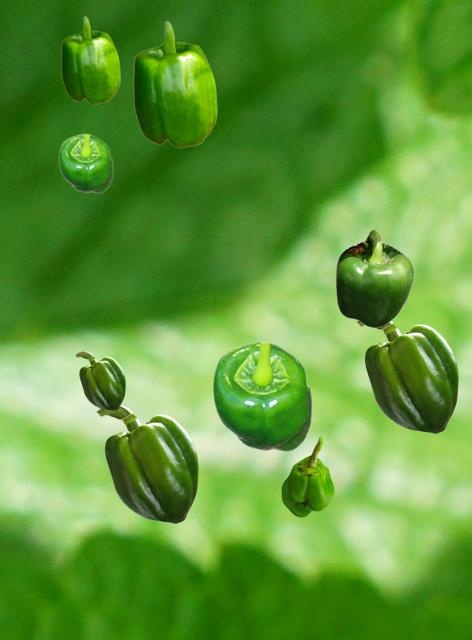bell_pepper: (96, 405, 197, 522), (356, 321, 457, 432), (211, 340, 312, 451), (133, 21, 216, 147), (335, 229, 413, 327), (61, 16, 119, 103), (281, 435, 333, 516), (58, 133, 112, 192), (75, 351, 124, 409)
